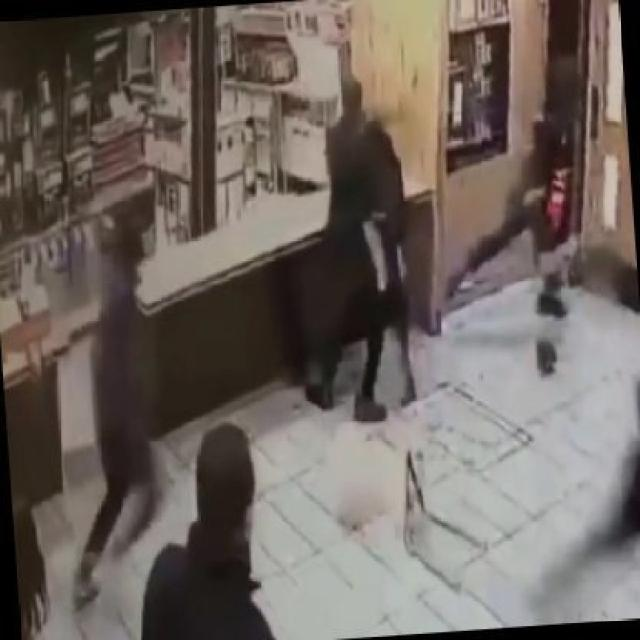fight: (297, 68, 437, 429)
non-fight: (65, 208, 183, 608)
